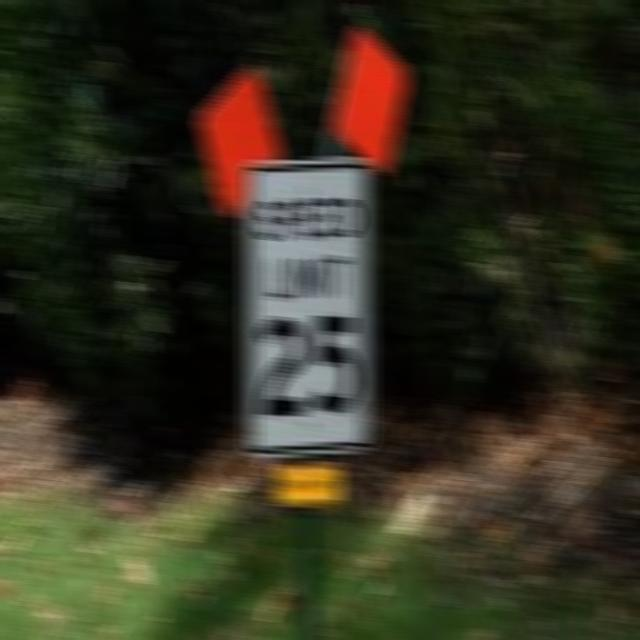speedLimit25: (237, 158, 375, 456)
